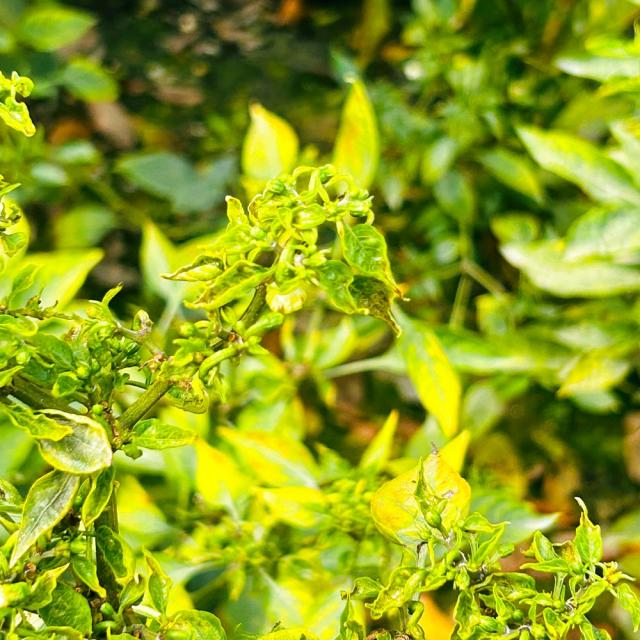Chilli_Leaf_Curl: (1, 6, 638, 639), (339, 444, 638, 639), (159, 161, 407, 362), (368, 444, 472, 558), (238, 100, 300, 190), (34, 408, 114, 476), (0, 69, 36, 137)
